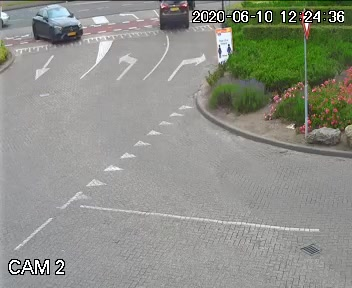car: (28, 4, 91, 47), (157, 0, 187, 33)
